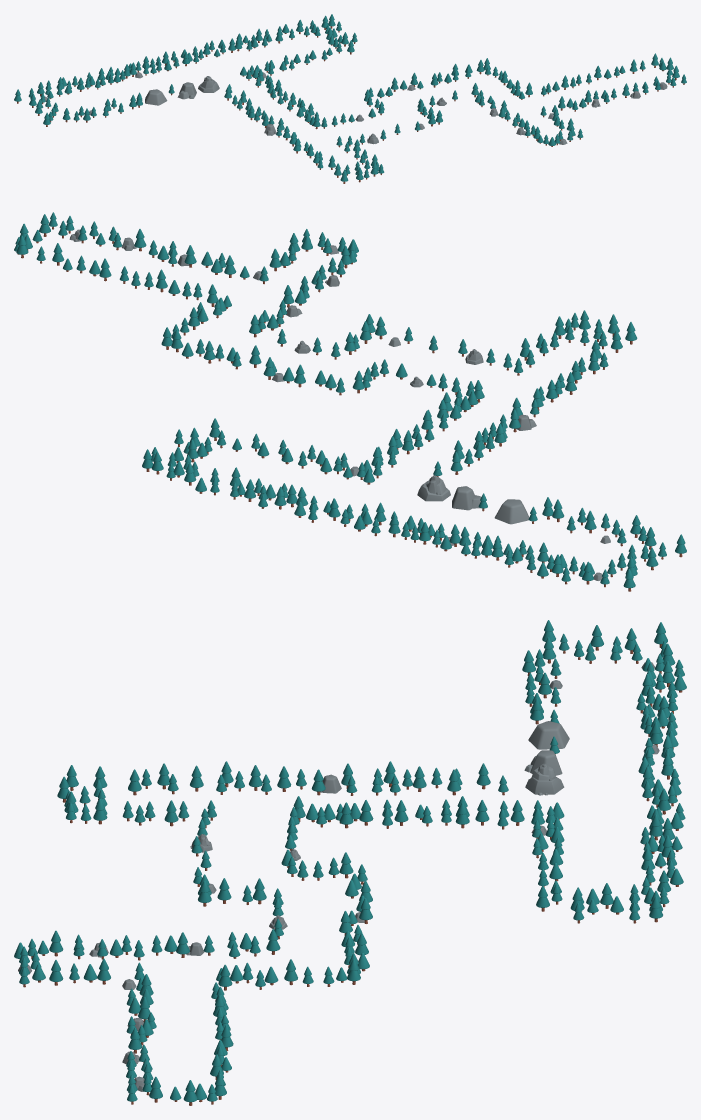
File: Objetos.fbx
3 renders of one model, top to bottom at view 1: azimuth 30°, elevation 25°; view 2: azimuth 150°, elevation 25°; view 3: azimuth 270°, elevation 25°, orthographic. The views are drawn at different scales.
Visible parts, largest first — view 1: Roca_B; view 2: Roca_B, Roca_A; view 3: Roca_B, Roca_A.
Boxes of the visible parts, x1,y1,x2,y2 form: Roca_B: (145, 89, 167, 105); Roca_B: (494, 499, 529, 524); Roca_A: (417, 475, 450, 501); Roca_B: (528, 721, 569, 749); Roca_A: (525, 763, 564, 795).
Bounding box in the file's own units: 194 × 5.36 × 118.
